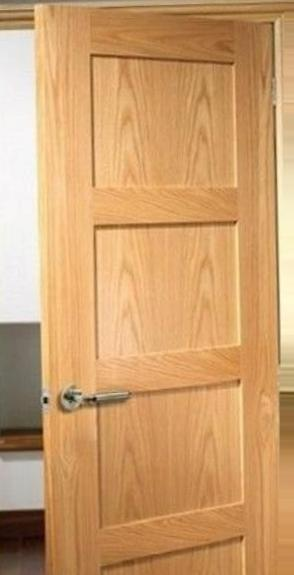door: (42, 9, 283, 574)
